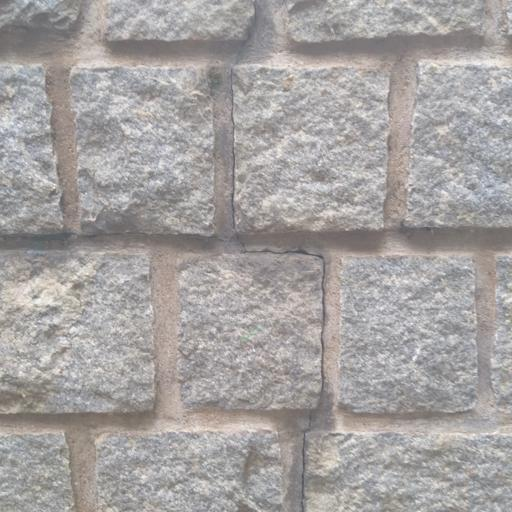minor_crack: (205, 45, 336, 512)
